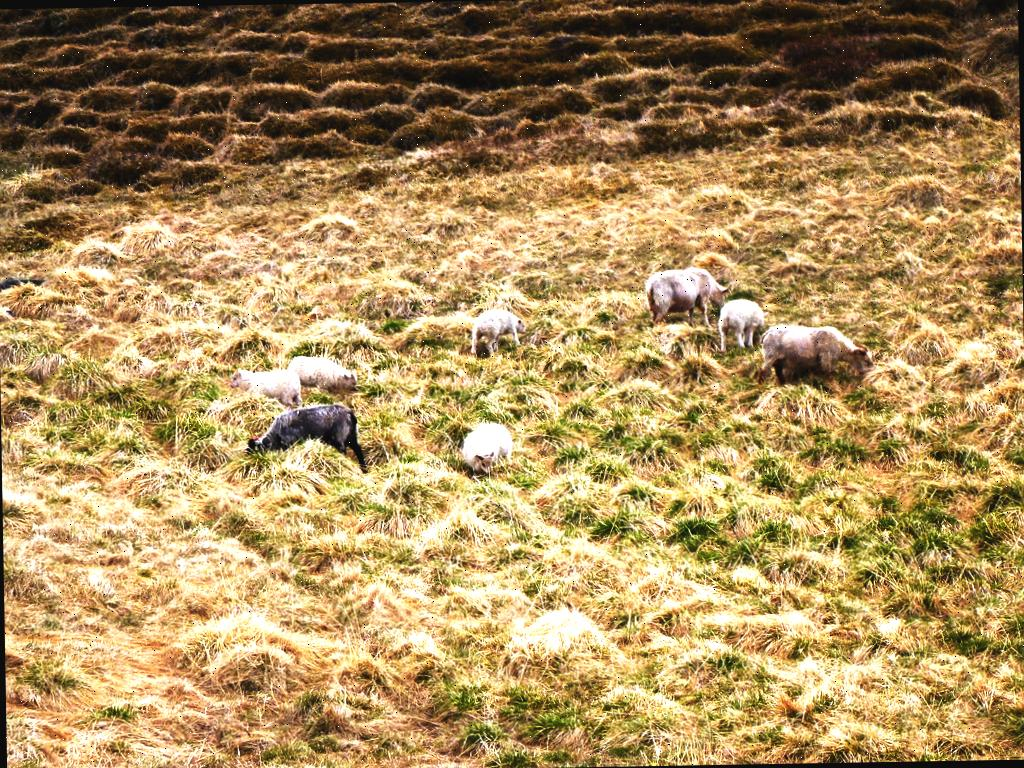Sheep: (758, 324, 870, 385), (648, 266, 730, 320), (470, 308, 526, 360), (232, 368, 300, 409), (462, 422, 512, 475), (717, 299, 766, 347), (290, 356, 357, 390)
